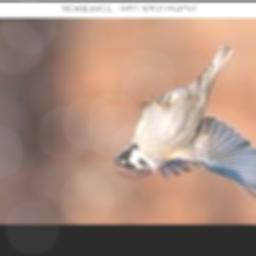Sparrow: (115, 48, 256, 199)
